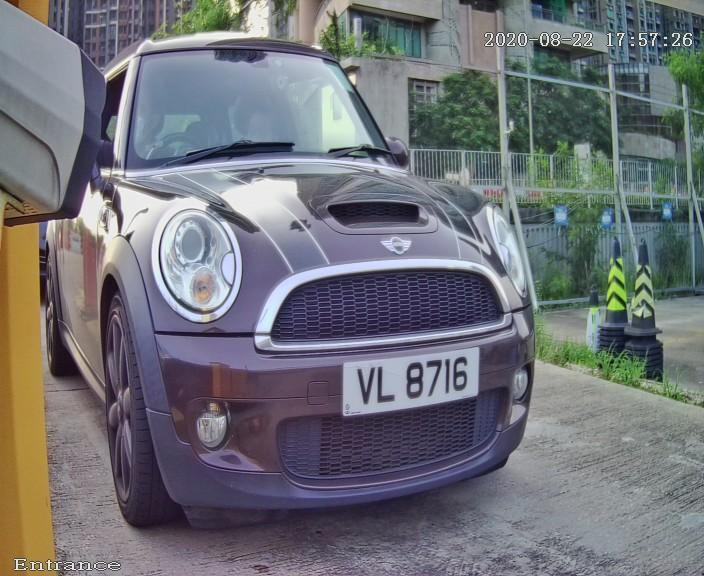Car: (35, 13, 582, 548)
License Plate: (331, 340, 488, 422)
